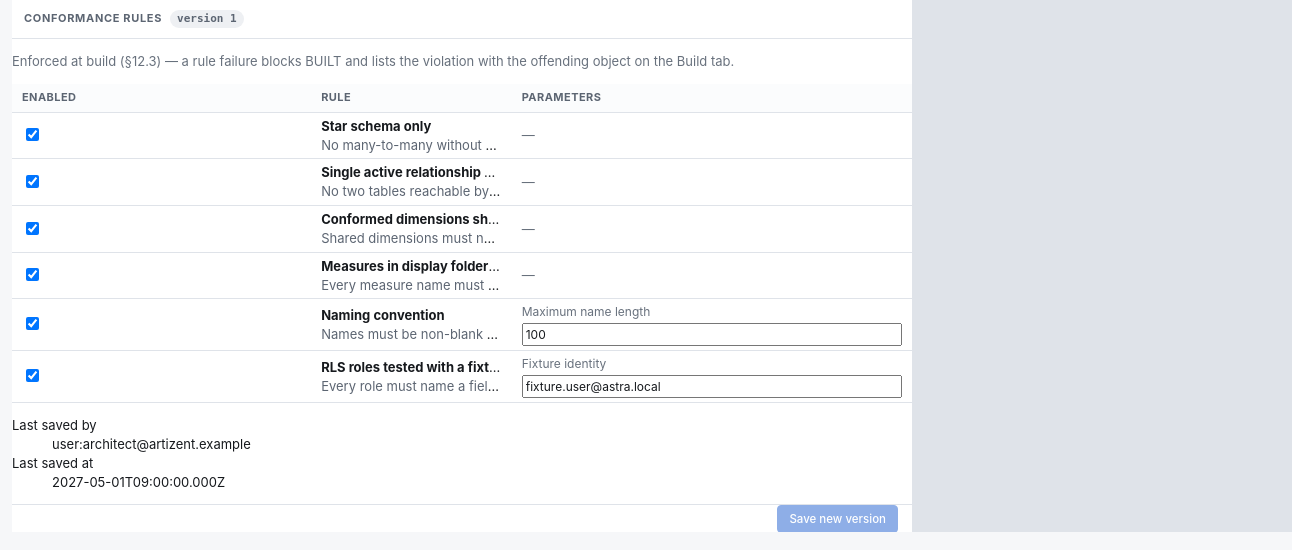
it: editing and saving › lets the architect change a parameter
Replace the text in the field labelled "Maximum name length" with "64" at (712, 335), box 522,323 -> 902,346
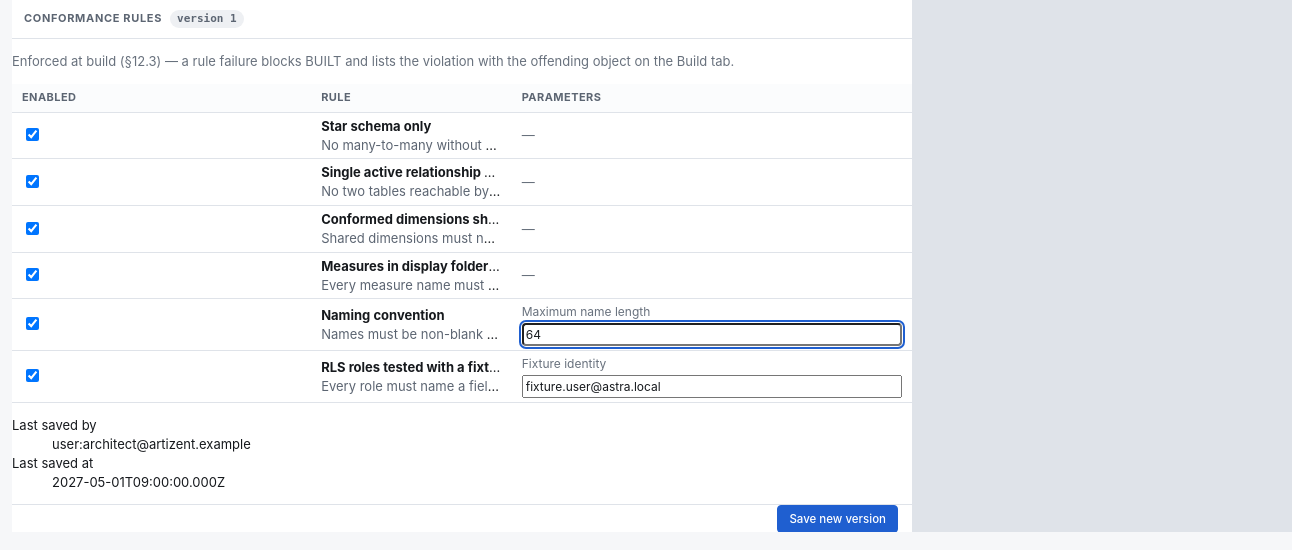
Click the button "Save new version" at (838, 519), box 777,505 -> 898,533
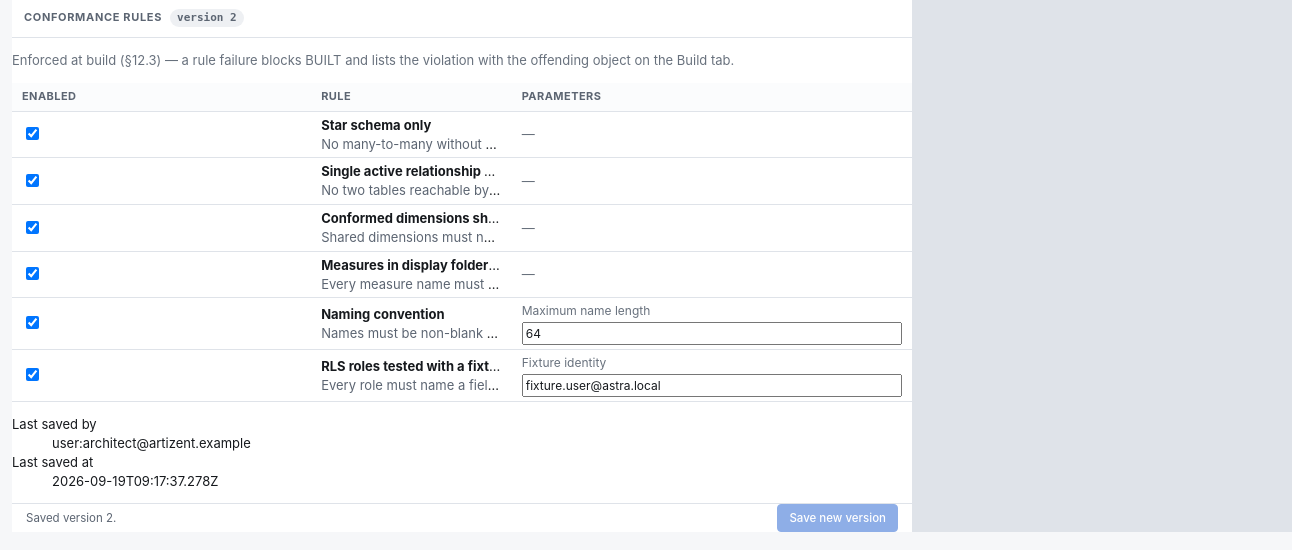
Now the text "Saved version 2." is shown, box 26,510 -> 116,526
